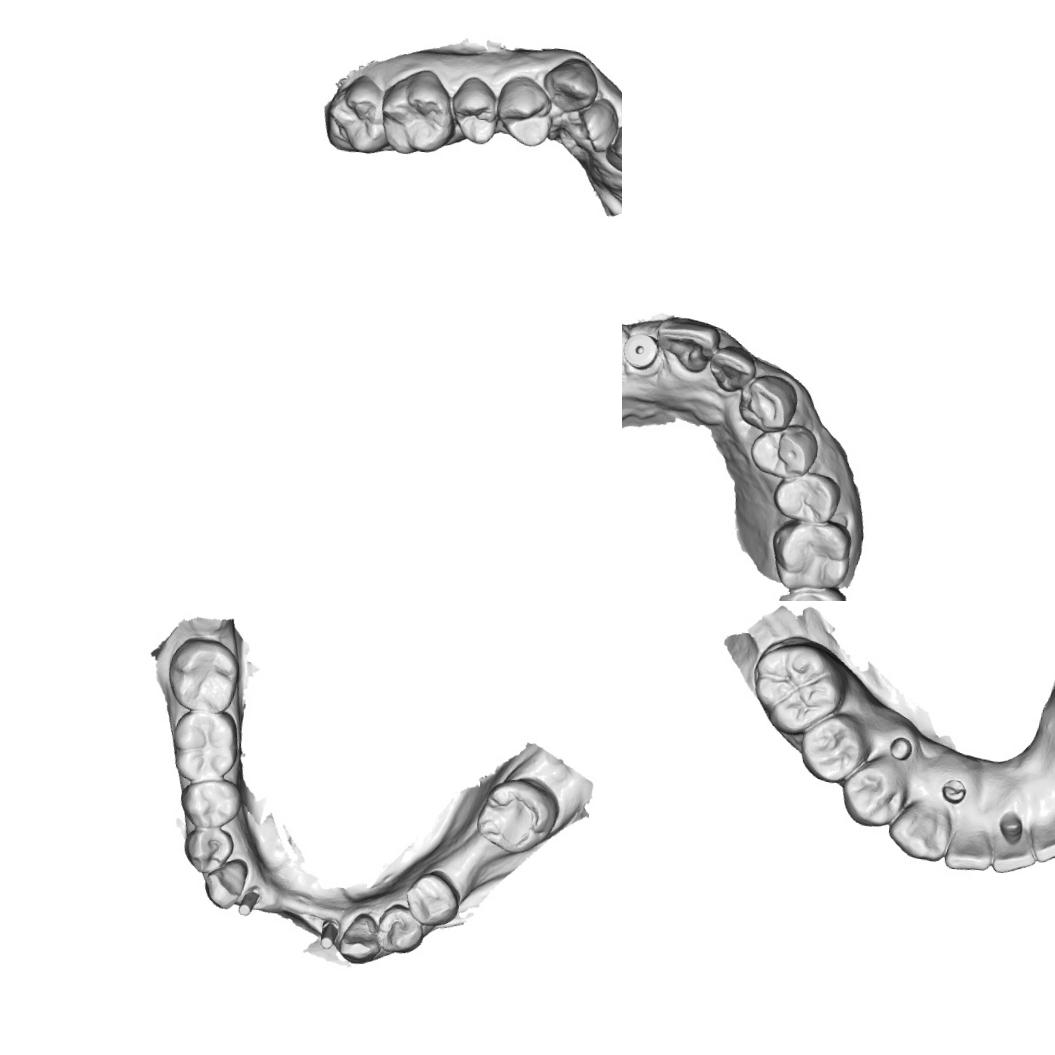abutment: (316, 915, 342, 952), (235, 886, 262, 920)
canine: (886, 796, 954, 866), (734, 370, 802, 436), (545, 54, 603, 109), (334, 908, 386, 968), (199, 853, 251, 912)
implant: (622, 327, 661, 372)
incisor: (652, 314, 724, 376), (706, 340, 760, 396), (941, 827, 998, 876), (579, 100, 621, 156), (990, 834, 1040, 878), (1025, 809, 1055, 870), (606, 120, 622, 192)
molar: (748, 635, 851, 738), (472, 771, 563, 858), (764, 514, 854, 597), (378, 64, 454, 156), (162, 633, 244, 718), (167, 704, 244, 788), (319, 75, 387, 158)
premolar: (798, 713, 868, 788), (746, 418, 822, 483), (840, 758, 907, 831), (770, 466, 844, 528), (446, 74, 505, 148), (494, 76, 555, 146), (175, 773, 245, 832), (402, 868, 463, 929), (180, 822, 238, 876), (373, 900, 427, 958)
